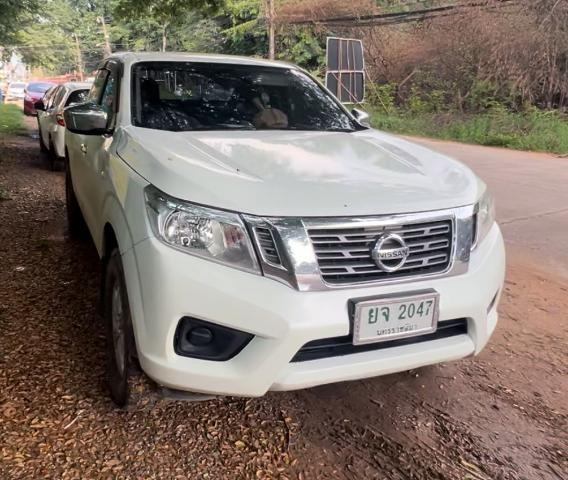pickup-truck: (61, 50, 506, 420)
